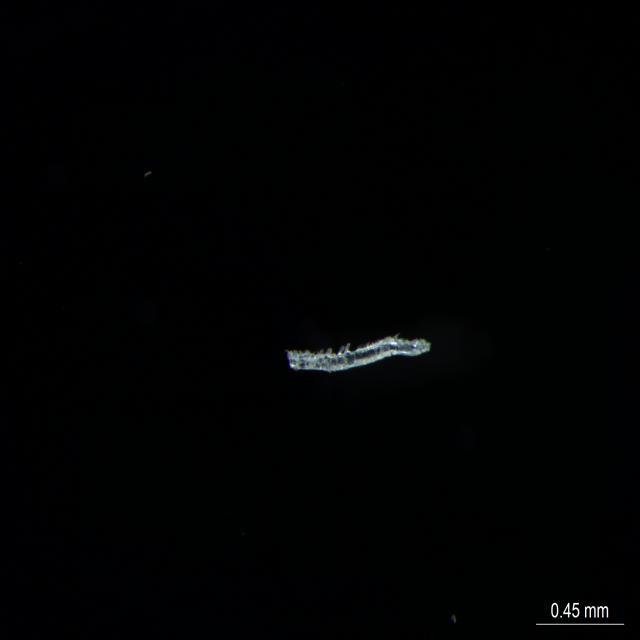fibers: (286, 325, 433, 379)
